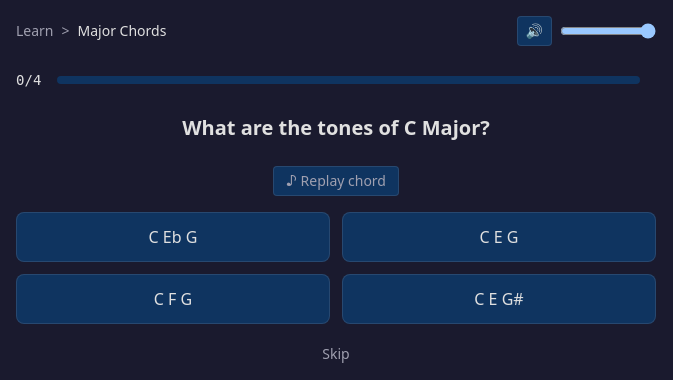
Scenario: FlashcardSession › shows correct answer feedback after correct choice
Click the button with test id "option-C E G": x=499, y=237 [342,212,656,262]
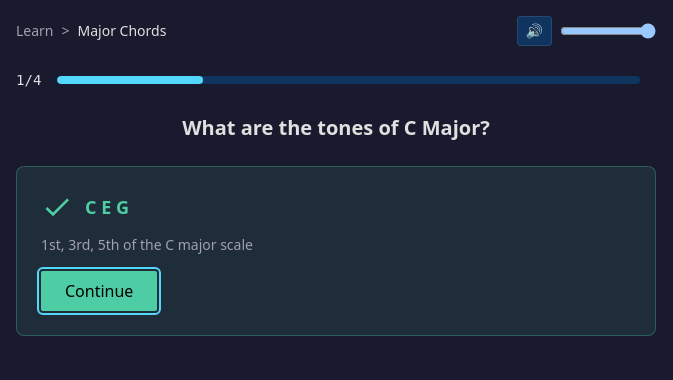
Check: the text with test id "feedback-correct" reads "C E G", box [85,195,129,219]
Check: the message "C E G 1st, 3rd, 5th of the C major scale Continue" is shown, box [16,166,656,336]
Check: the button with test id "continue-button" is shown, box [41,271,157,311]
